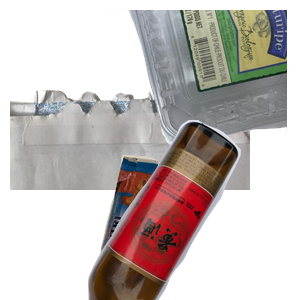glass: (85, 120, 300, 300)
paper: (10, 84, 250, 264)
plastic: (60, 10, 300, 149)
trash: (97, 152, 248, 300)
